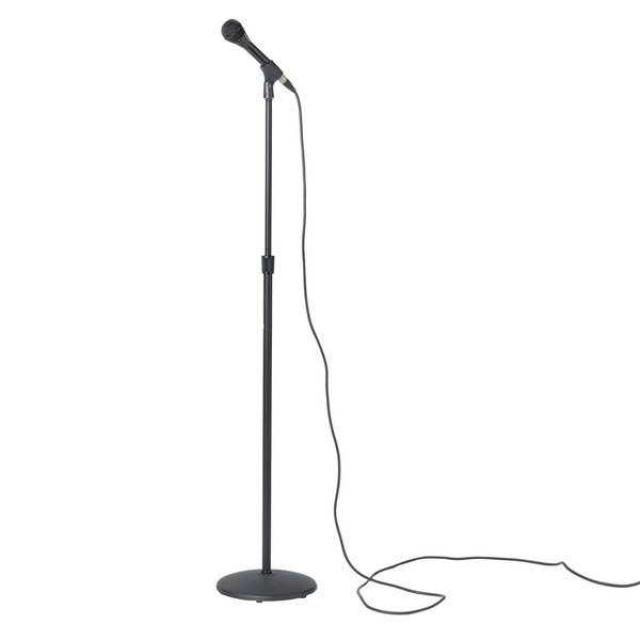microphone: (223, 19, 287, 87)
